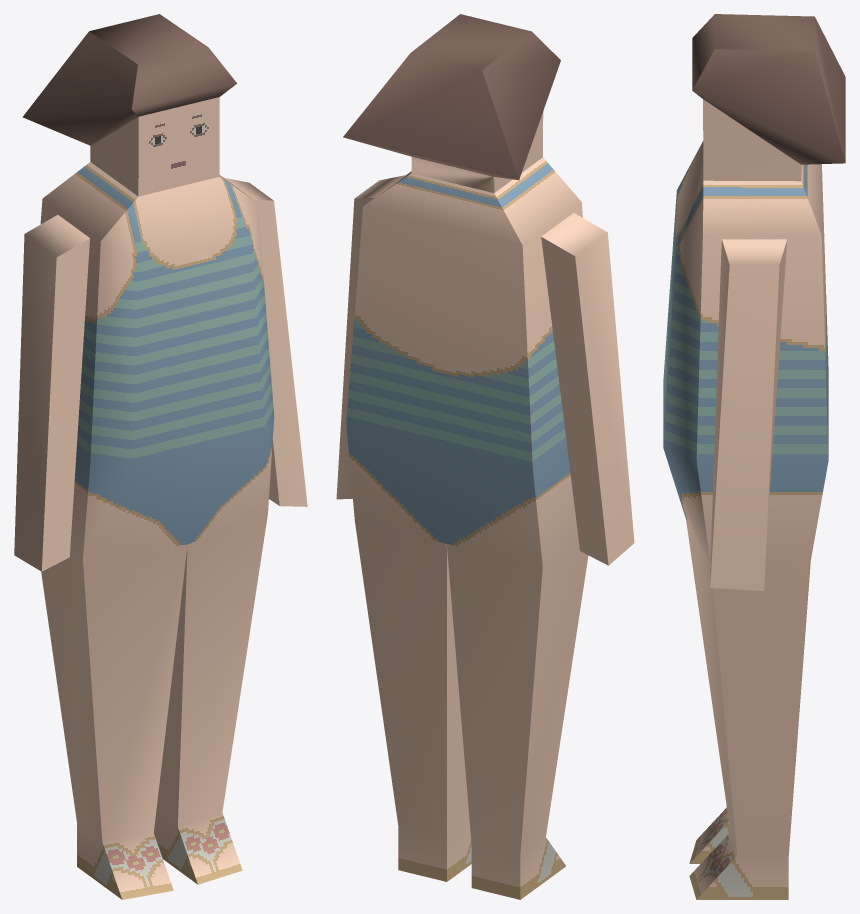
Rendered from 0239_Swimsuit_Girl.glb.
3 views of the same model, side by side, from view 1: azimuth 30°, elevation 25°; view 2: azimuth 150°, elevation 25°; view 3: azimuth 270°, elevation 25° (orthographic).
Parts seen in each view (by area): view 1: part_0; view 2: part_0; view 3: part_0.
Boxes of the visible parts, bbox=[...] form: part_0: bbox=[14, 14, 307, 899]; part_0: bbox=[336, 14, 634, 899]; part_0: bbox=[663, 14, 845, 899].
Bounding box in the file's own units: 0.4952 × 1.45 × 0.2865.
1 material, 1 textured.
